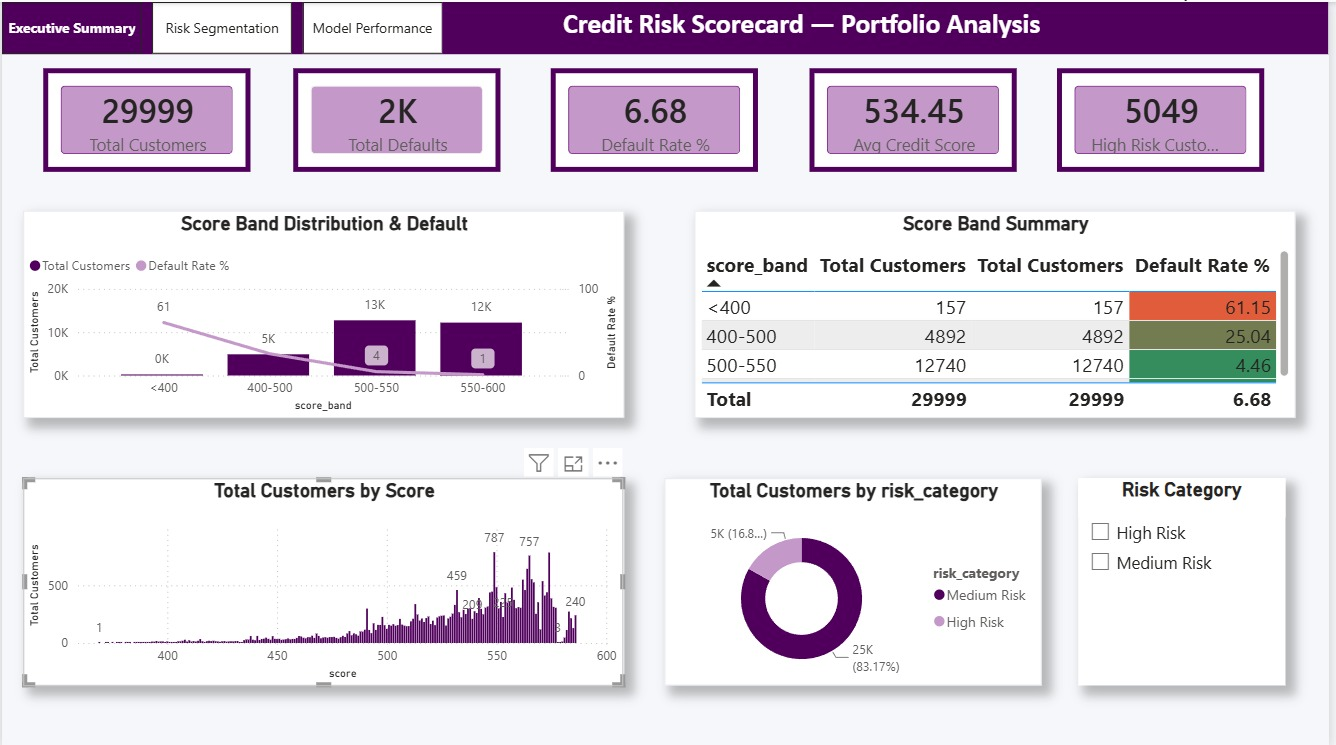

Layout of this report page (visuals, bound fields, positions):
{"tool":"powerbi","page":{"name":"Executive Summary","canvas":[1280,720],"ordinal":0},"visuals":[{"type":"cardVisual","fields":{"Data":["scored_customers_final.Total Customers"]},"box":[40.4,63.6,200,100],"z":0},{"type":"cardVisual","fields":{"Data":["scored_customers_final.Total Defaults1"]},"box":[281.3,63.6,200,100],"z":1000},{"type":"cardVisual","fields":{"Data":["scored_customers_final.Default Rate %"]},"box":[529.5,63.6,200,100],"z":2000},{"type":"cardVisual","fields":{"Data":["scored_customers_final.Avg Credit Score"]},"box":[778.9,63.6,200,100],"z":3000},{"type":"cardVisual","fields":{"Data":["scored_customers_final.High Risk Customers"]},"box":[1018.6,63.6,200,100],"z":4000},{"type":"lineClusteredColumnComboChart","title":"Score Band Distribution & Default","fields":{"Category":["scored_customers_final.score_band"],"Y":["scored_customers_final.Total Customers"],"Y2":["scored_customers_final.Default Rate %"]},"box":[20,201.4,580,200],"z":5000},{"type":"tableEx","title":"Score Band Summary","fields":{"Values":["scored_customers_final.score_band","scored_customers_final.Total Customers","scored_customers_final.Total Defaults","scored_customers_final.Default Rate %"]},"box":[668.6,201.4,580,200],"z":6000},{"type":"clusteredColumnChart","title":"Total Customers by Score","fields":{"Category":["scored_customers_final.score"],"Y":["scored_customers_final.Total Customers"]},"box":[20,460,580,200],"z":7000},{"type":"donutChart","fields":{"Category":["scored_customers_final.risk_category"],"Y":["scored_customers_final.Total Customers"]},"box":[640,460,364.3,200],"z":8000},{"type":"textbox","box":[0,0,1280,50],"z":9000},{"type":"slicer","title":"Risk Category","fields":{"Values":["scored_customers_final.risk_category"]},"box":[1038.6,460,200,200],"z":10000},{"type":"pageNavigator","box":[0,0,425.7,50],"z":11000}]}

Visuals, with their boxes in screenshot pixels (x1, y1, x2, y2), scaled from the page's 1280x720 canvas onto the 1336x745 screenshot:
cardVisual - scored_customers_final.Total Customers: {"left": 42, "top": 66, "right": 251, "bottom": 169}
cardVisual - scored_customers_final.Total Defaults1: {"left": 294, "top": 66, "right": 502, "bottom": 169}
cardVisual - scored_customers_final.Default Rate %: {"left": 553, "top": 66, "right": 761, "bottom": 169}
cardVisual - scored_customers_final.Avg Credit Score: {"left": 813, "top": 66, "right": 1022, "bottom": 169}
cardVisual - scored_customers_final.High Risk Customers: {"left": 1063, "top": 66, "right": 1272, "bottom": 169}
"Score Band Distribution & Default" lineClusteredColumnComboChart: {"left": 21, "top": 208, "right": 626, "bottom": 415}
"Score Band Summary" tableEx: {"left": 698, "top": 208, "right": 1303, "bottom": 415}
"Total Customers by Score" clusteredColumnChart: {"left": 21, "top": 476, "right": 626, "bottom": 683}
donutChart - scored_customers_final.risk_category x scored_customers_final.Total Customers: {"left": 668, "top": 476, "right": 1048, "bottom": 683}
textbox: {"left": 0, "top": 0, "right": 1335, "bottom": 52}
"Risk Category" slicer: {"left": 1084, "top": 476, "right": 1293, "bottom": 683}
pageNavigator: {"left": 0, "top": 0, "right": 444, "bottom": 52}
